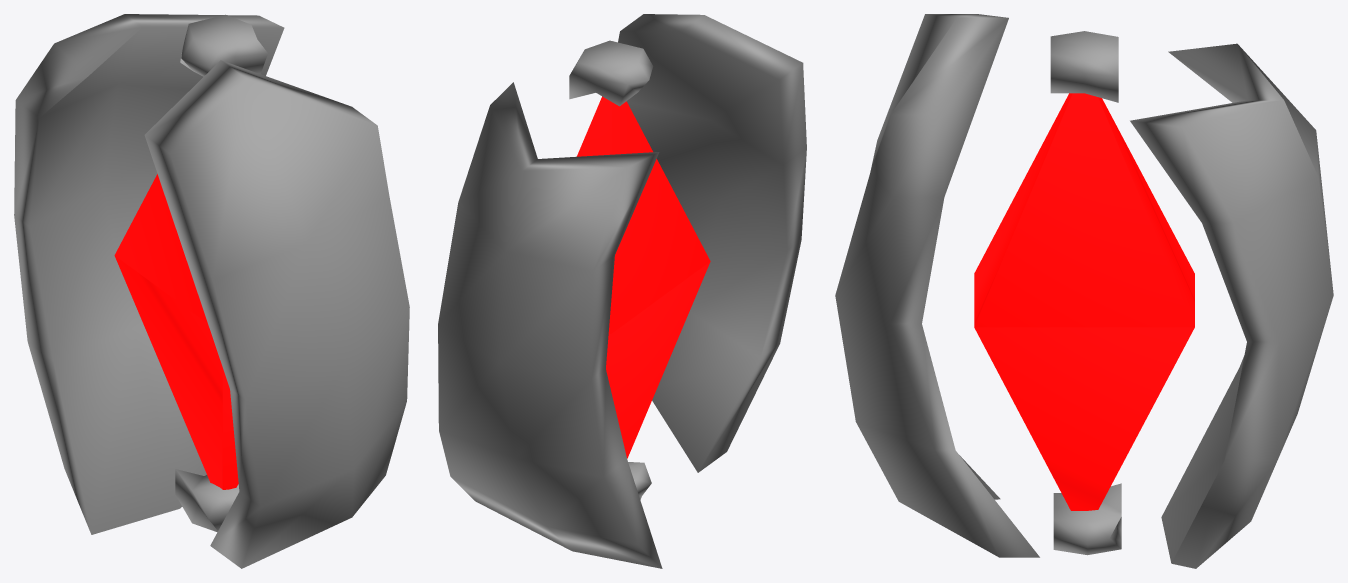
File: CrystalEnem.fbx
3 views of the same model, side by side, from view 1: azimuth 30°, elevation 25°; view 2: azimuth 150°, elevation 25°; view 3: azimuth 270°, elevation 25° (orthographic). The views are drawn at different scales.
Visible parts, largest first — view 1: Cover2, Cover1, PyramidBottom, PyramidTop, AnchorTop, AnchorBottom; view 2: Cover1, Cover2, PyramidTop, PyramidBottom, AnchorTop, AnchorBottom; view 3: Cover1, Cover2, PyramidTop, PyramidBottom, AnchorTop, AnchorBottom.
Part boxes in pixels (box(x1,y1,x2,y2)): Cover2: box(144, 60, 409, 568); Cover1: box(14, 14, 284, 534); PyramidBottom: box(115, 256, 238, 489); PyramidTop: box(114, 174, 207, 323); AnchorTop: box(180, 14, 267, 76); AnchorBottom: box(175, 469, 239, 532); Cover1: box(438, 82, 662, 568); Cover2: box(618, 14, 806, 472); PyramidTop: box(577, 96, 710, 333); PyramidBottom: box(606, 261, 710, 458); AnchorTop: box(569, 40, 653, 106); AnchorBottom: box(628, 462, 651, 499); Cover1: box(1130, 43, 1333, 568); Cover2: box(835, 14, 1039, 557); PyramidTop: box(974, 93, 1194, 327); PyramidBottom: box(974, 327, 1194, 510); AnchorTop: box(1050, 31, 1118, 102); AnchorBottom: box(1053, 483, 1121, 555).
Size of the model in its own units: 76.14 by 149 by 128.
